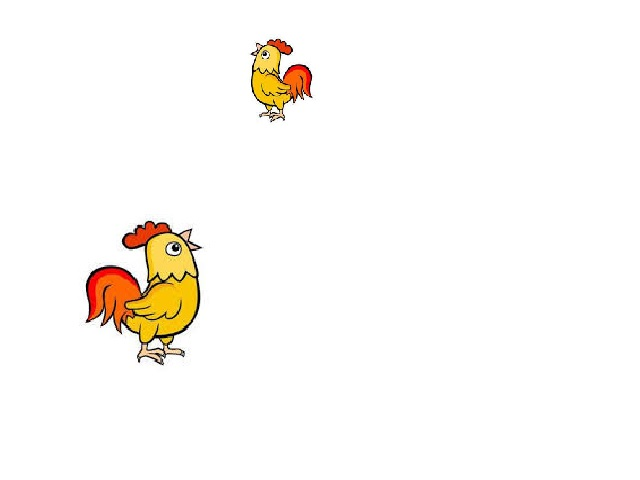crown: (119, 222, 171, 244), (267, 37, 293, 56)
eyes: (164, 242, 183, 255), (260, 49, 270, 62)
feet: (137, 343, 189, 365), (260, 107, 284, 122)
tail: (84, 266, 143, 334), (284, 64, 312, 101)
